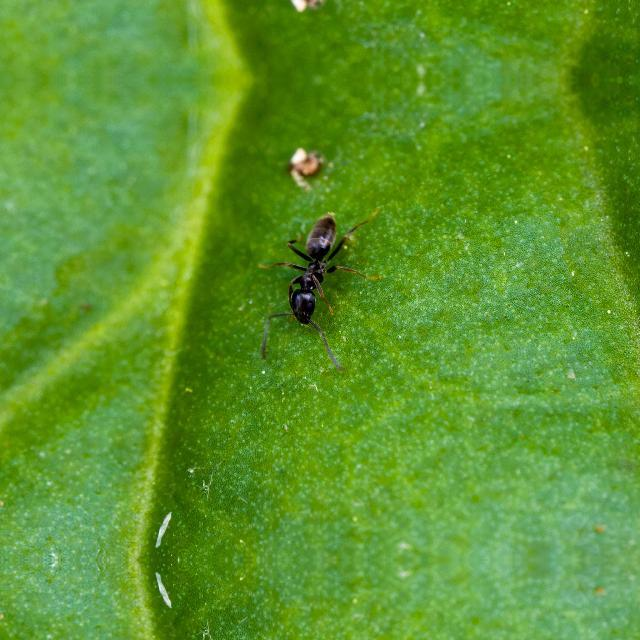Tapinoma: (260, 205, 366, 332)
